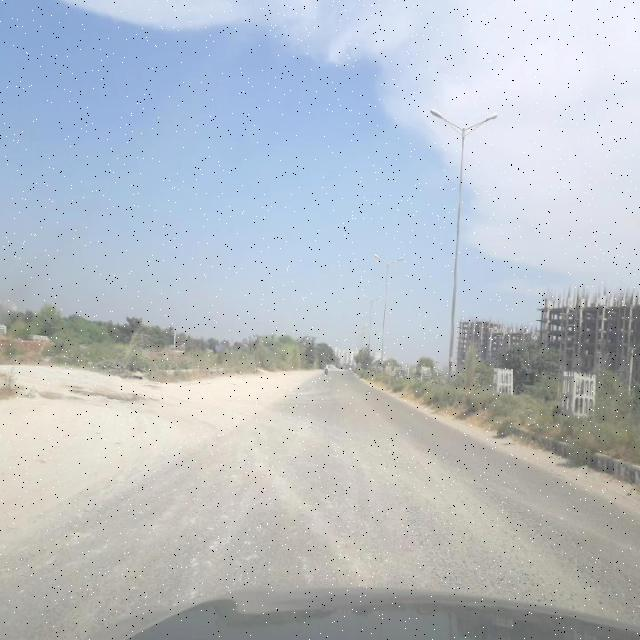D20: (390, 452, 630, 594)
